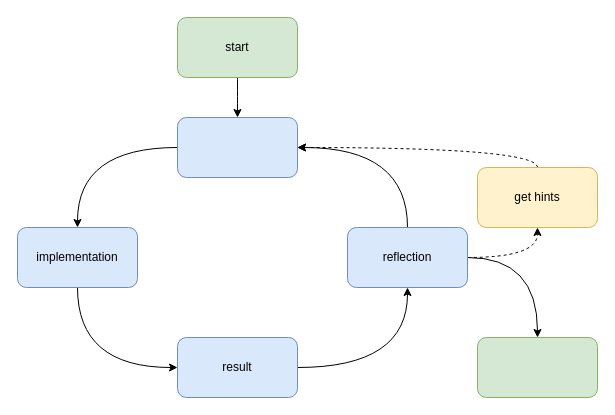
This 615x415 diagram has some shape labels left out. Each missing label, with the centre of its shape:
"done" goes at [537,367].
"hypothesis" goes at [237,147].
